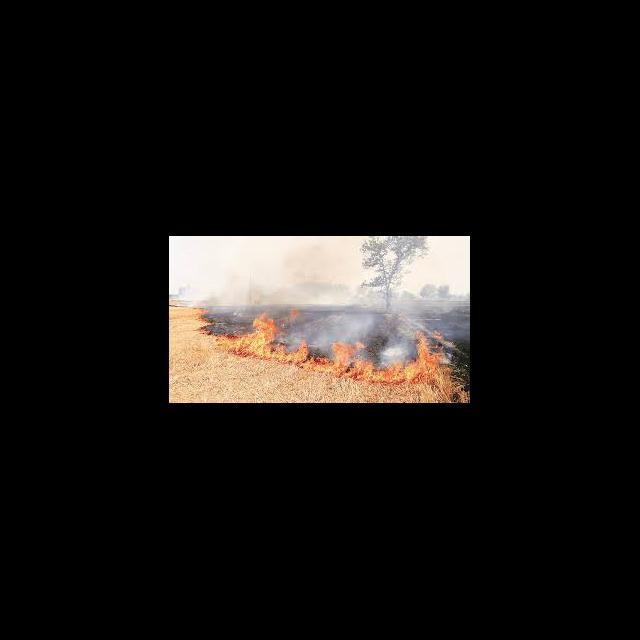Fire: (223, 319, 276, 358), (318, 344, 365, 374), (369, 361, 431, 383), (188, 306, 217, 338), (417, 332, 442, 362), (281, 340, 310, 364)
Smoke: (172, 238, 358, 294), (296, 300, 370, 337), (385, 344, 411, 360)
